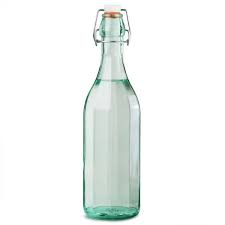bottle: (80, 1, 144, 222)
